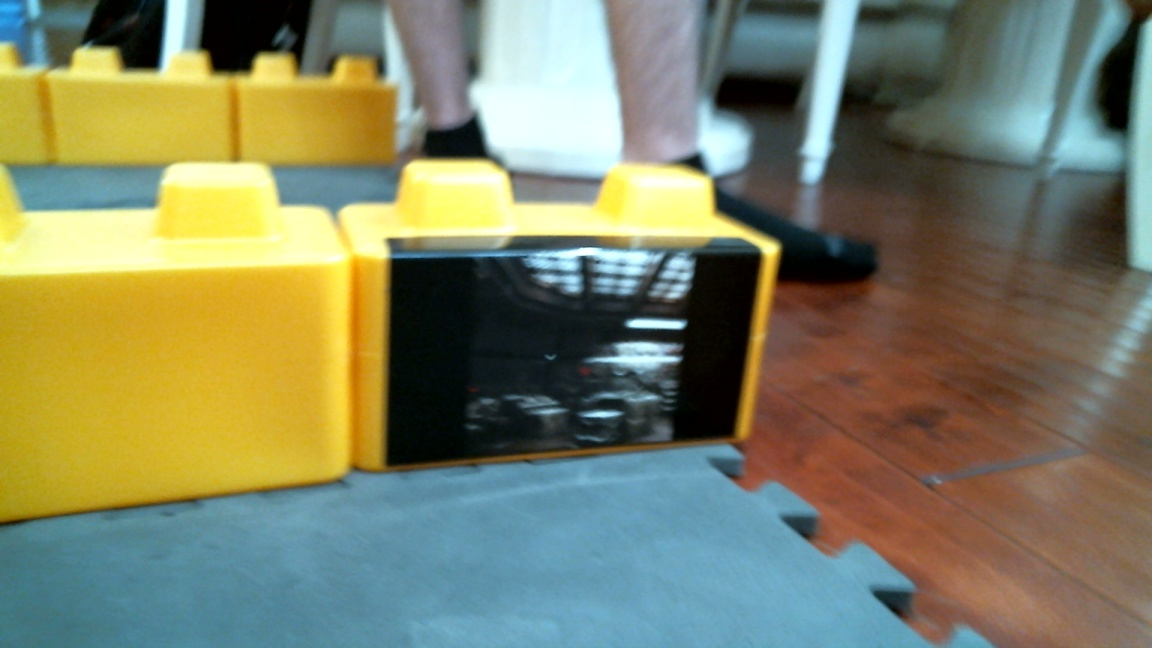skystone: (343, 157, 756, 442)
stone: (1, 166, 350, 481)
